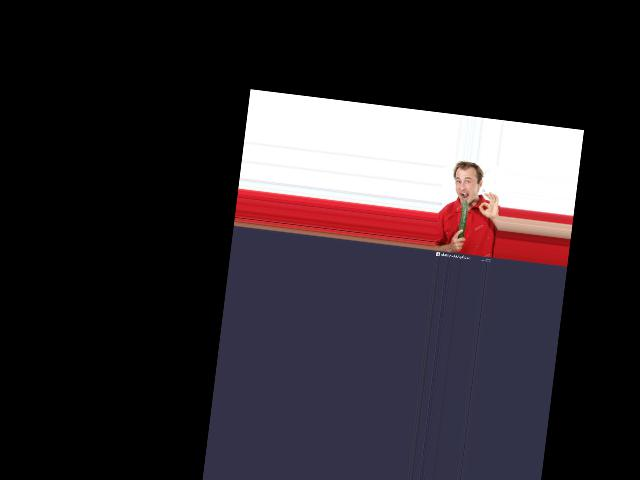cucumber: (458, 199, 468, 238)
